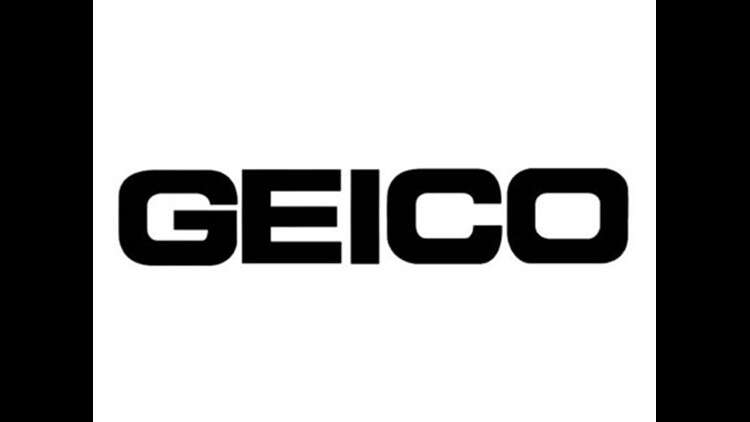Geico: (117, 166, 639, 269)
